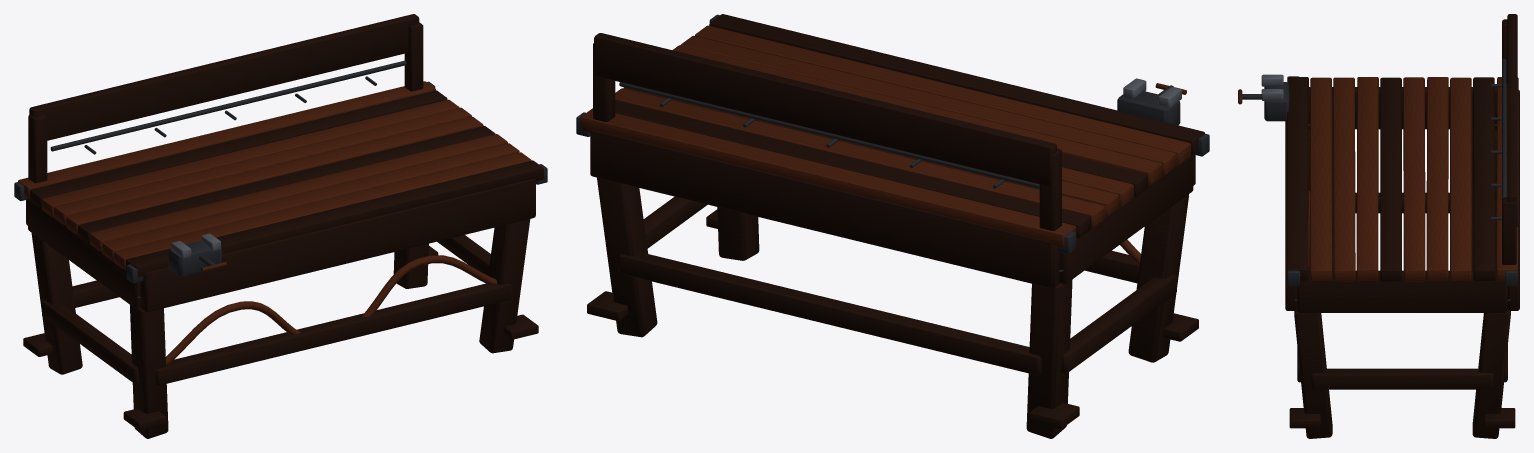
File: workbench.glb
The picture shows the model from 3 angles, left to right: view 1: azimuth 30°, elevation 25°; view 2: azimuth 150°, elevation 25°; view 3: azimuth 270°, elevation 25°; orthographic projection. The views are drawn at different scales.
Visible parts, largest first — view 1: workbench; view 2: workbench; view 3: workbench.
Part boxes in pixels (<box>): workbench: <box>14,14,547,438</box>; workbench: <box>576,14,1209,438</box>; workbench: <box>1238,14,1519,438</box>.
Size of the model in its own units: 8.88 by 5.24 by 5.38.
5 materials, 5 textured.
